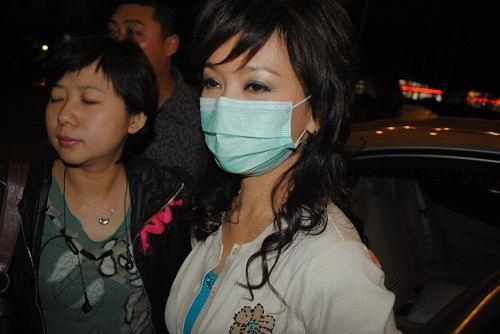NONE: (48, 85, 121, 164), (105, 14, 165, 81)
OK: (196, 58, 310, 172)
